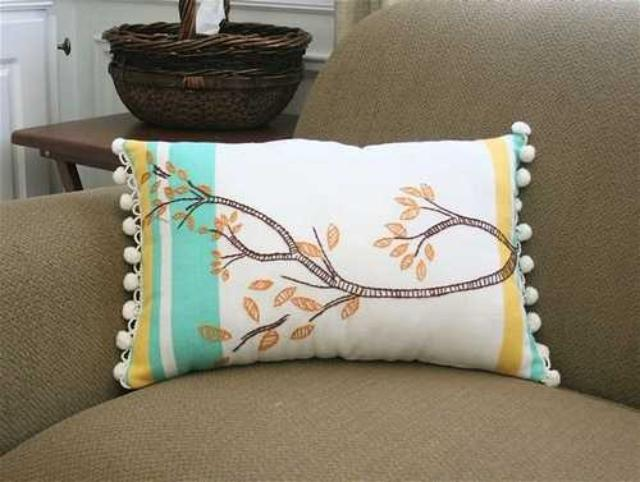pillow: (110, 120, 560, 390)
